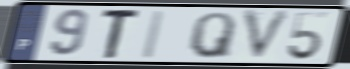5: (285, 10, 336, 63)
9: (48, 7, 90, 60)
I: (138, 9, 169, 61)
Q: (187, 10, 238, 60)
T: (100, 8, 144, 61)
V: (241, 8, 295, 64)
